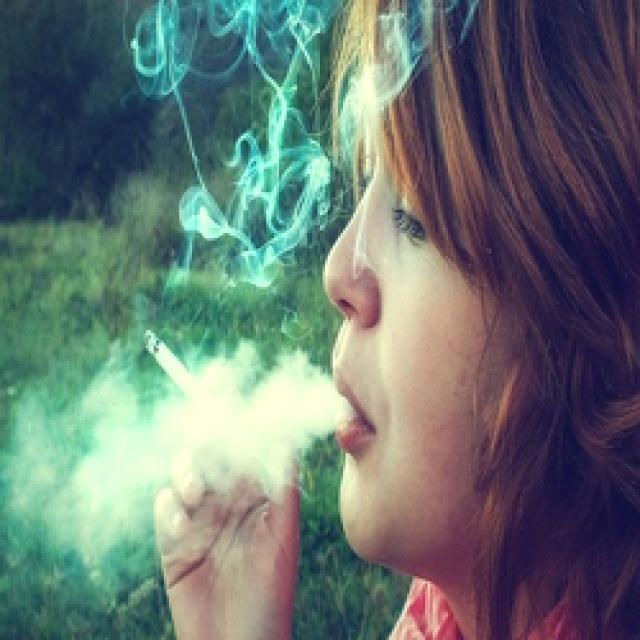Smooking: (131, 324, 201, 400)
